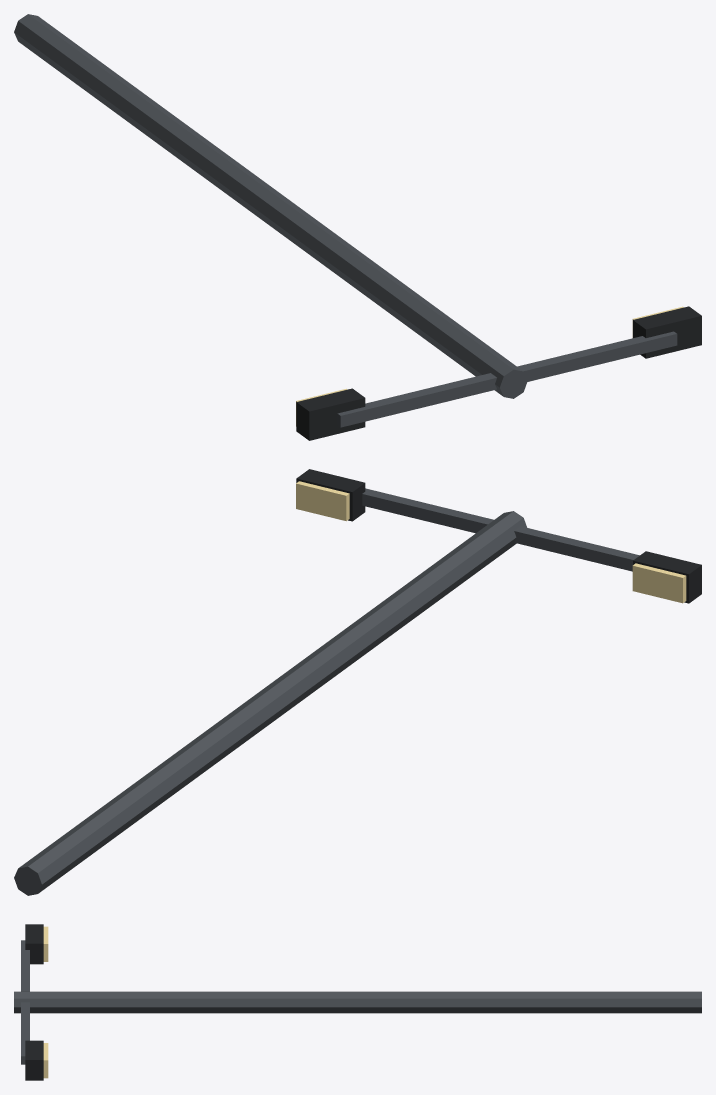
The model's file is streetlight_double.obj.
3 renders of one model, top to bottom at view 1: azimuth 30°, elevation 25°; view 2: azimuth 150°, elevation 25°; view 3: azimuth 270°, elevation 25°, orthographic. The views are drawn at different scales.
Visible parts, largest first — view 1: streetlight_double_pole, streetlight_double_arm_b, streetlight_double_arm_a, streetlight_double_head_b, streetlight_double_head_a; view 2: streetlight_double_pole, streetlight_double_arm_a, streetlight_double_arm_b, streetlight_double_lens_b, streetlight_double_lens_a, streetlight_double_head_b, streetlight_double_head_a; view 3: streetlight_double_pole, streetlight_double_head_a, streetlight_double_head_b, streetlight_double_arm_a, streetlight_double_arm_b.
Part boxes in pixels (box(x1,y1,x2,y2)): streetlight_double_pole: box(14, 14, 527, 398); streetlight_double_arm_b: box(337, 373, 496, 427); streetlight_double_arm_a: box(517, 331, 677, 381); streetlight_double_head_b: box(296, 388, 365, 440); streetlight_double_head_a: box(633, 306, 701, 358); streetlight_double_pole: box(14, 511, 527, 895); streetlight_double_arm_a: box(362, 488, 493, 533); streetlight_double_arm_b: box(514, 526, 639, 571); streetlight_double_lens_b: box(632, 563, 686, 603); streetlight_double_lens_a: box(296, 481, 349, 521); streetlight_double_head_b: box(633, 551, 701, 603); streetlight_double_head_a: box(296, 469, 365, 521); streetlight_double_pole: box(14, 991, 701, 1013); streetlight_double_head_a: box(25, 1040, 43, 1080); streetlight_double_head_b: box(25, 924, 43, 964); streetlight_double_arm_a: box(21, 1002, 29, 1064); streetlight_double_arm_b: box(21, 940, 29, 991).
Size of the model in its own units: 4.2 by 0.3 by 9.
